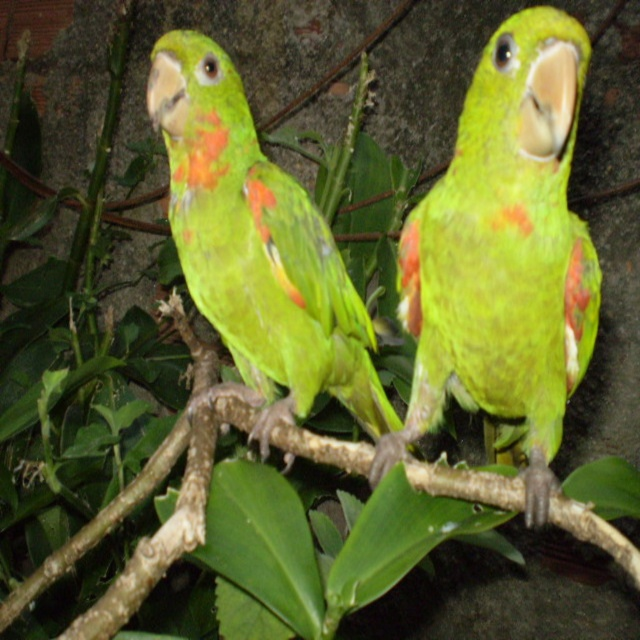Parrot: (146, 29, 425, 475), (368, 4, 601, 530)
